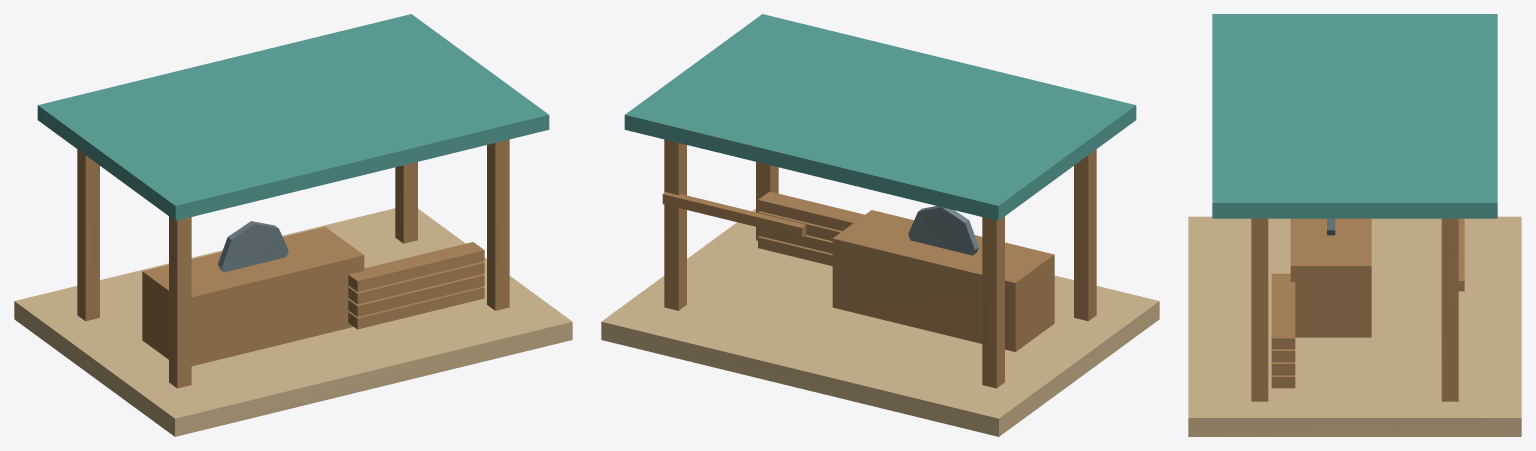
The model's file is Carpenter-Workshop.glb.
3 views of the same model, side by side, from view 1: azimuth 30°, elevation 25°; view 2: azimuth 150°, elevation 25°; view 3: azimuth 270°, elevation 25° (orthographic). The views are drawn at different scales.
Parts seen in each view (by area): view 1: carpenter-workshop-static-carpenter-roof, carpenter-workshop-static-carpenter-concrete, carpenter-workshop-static-carpenter-timber, carpenter-workshop-static-carpenter-cut-lumber, carpenter-workshop-static-carpenter-saw-metal; view 2: carpenter-workshop-static-carpenter-roof, carpenter-workshop-static-carpenter-concrete, carpenter-workshop-static-carpenter-timber, carpenter-workshop-static-carpenter-cut-lumber, carpenter-workshop-static-carpenter-saw-metal; view 3: carpenter-workshop-static-carpenter-roof, carpenter-workshop-static-carpenter-concrete, carpenter-workshop-static-carpenter-timber, carpenter-workshop-static-carpenter-cut-lumber.
Part boxes in pixels (x1=…): carpenter-workshop-static-carpenter-roof: x1=37, y1=14, x2=549, y2=220; carpenter-workshop-static-carpenter-concrete: x1=14, y1=208, x2=572, y2=436; carpenter-workshop-static-carpenter-timber: x1=77, y1=139, x2=509, y2=388; carpenter-workshop-static-carpenter-cut-lumber: x1=348, y1=242, x2=484, y2=329; carpenter-workshop-static-carpenter-saw-metal: x1=218, y1=221, x2=288, y2=272; carpenter-workshop-static-carpenter-roof: x1=624, y1=14, x2=1136, y2=220; carpenter-workshop-static-carpenter-concrete: x1=601, y1=209, x2=1159, y2=436; carpenter-workshop-static-carpenter-timber: x1=662, y1=139, x2=1096, y2=388; carpenter-workshop-static-carpenter-cut-lumber: x1=758, y1=191, x2=864, y2=266; carpenter-workshop-static-carpenter-saw-metal: x1=908, y1=206, x2=978, y2=255; carpenter-workshop-static-carpenter-roof: x1=1212, y1=14, x2=1497, y2=218; carpenter-workshop-static-carpenter-concrete: x1=1188, y1=216, x2=1521, y2=436; carpenter-workshop-static-carpenter-timber: x1=1251, y1=218, x2=1464, y2=401; carpenter-workshop-static-carpenter-cut-lumber: x1=1271, y1=273, x2=1295, y2=388.
Size of the model in its own units: 5 by 2.64 by 3.5.
